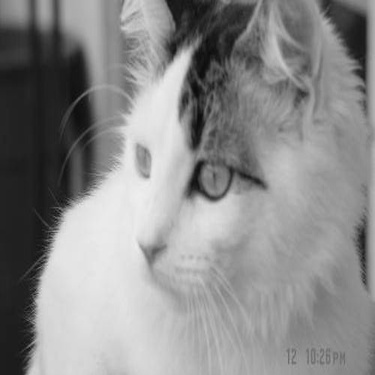cat: (20, 4, 369, 371)
